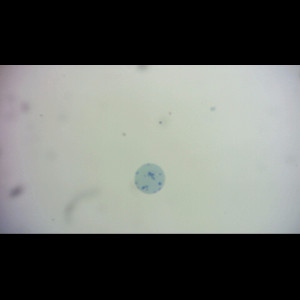aggregate reticulocyte: (132, 162, 167, 196)
